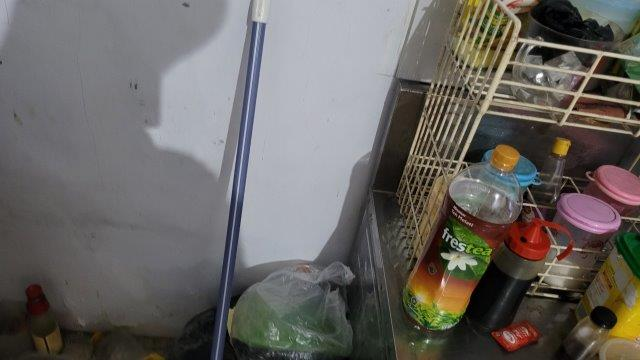botolplastik: (398, 144, 522, 336)
plastik: (232, 257, 354, 360)
